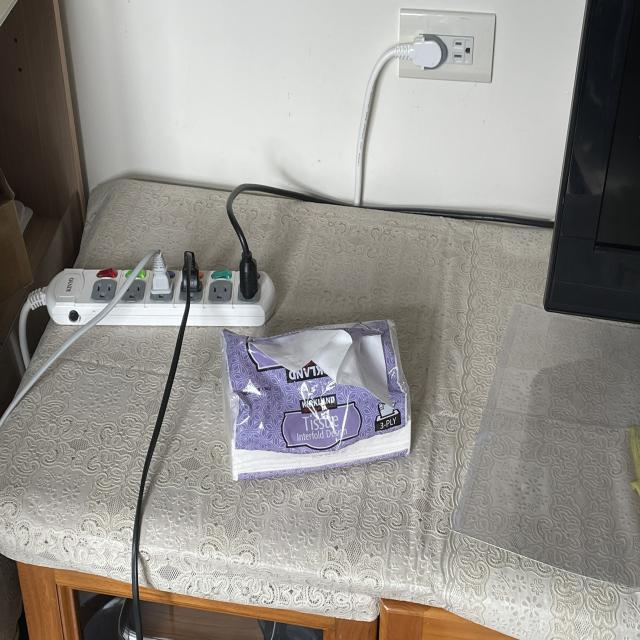tissue: (217, 317, 422, 487)
